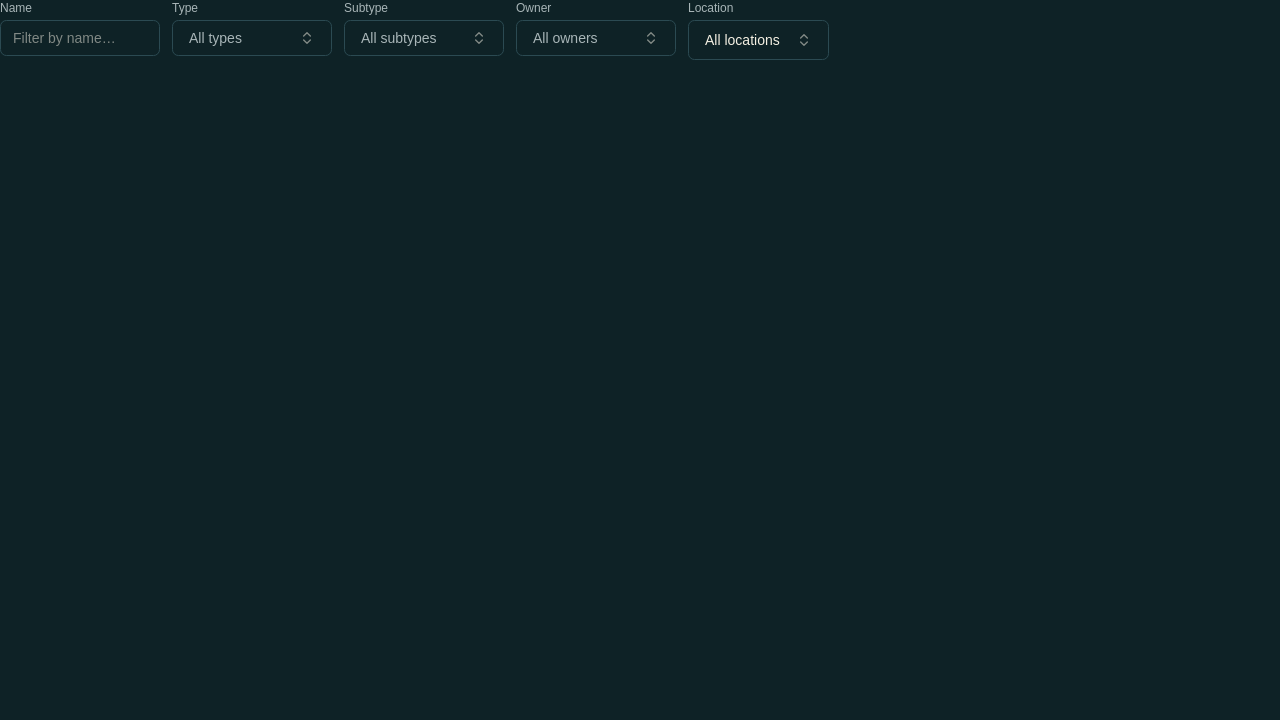
Scenario: InventoryFilters › renders subtype dropdown with options
The image size is (1280, 720).
Click the dropdown labelled "All subtypes".
click(424, 38)  # box [344,20,504,56]
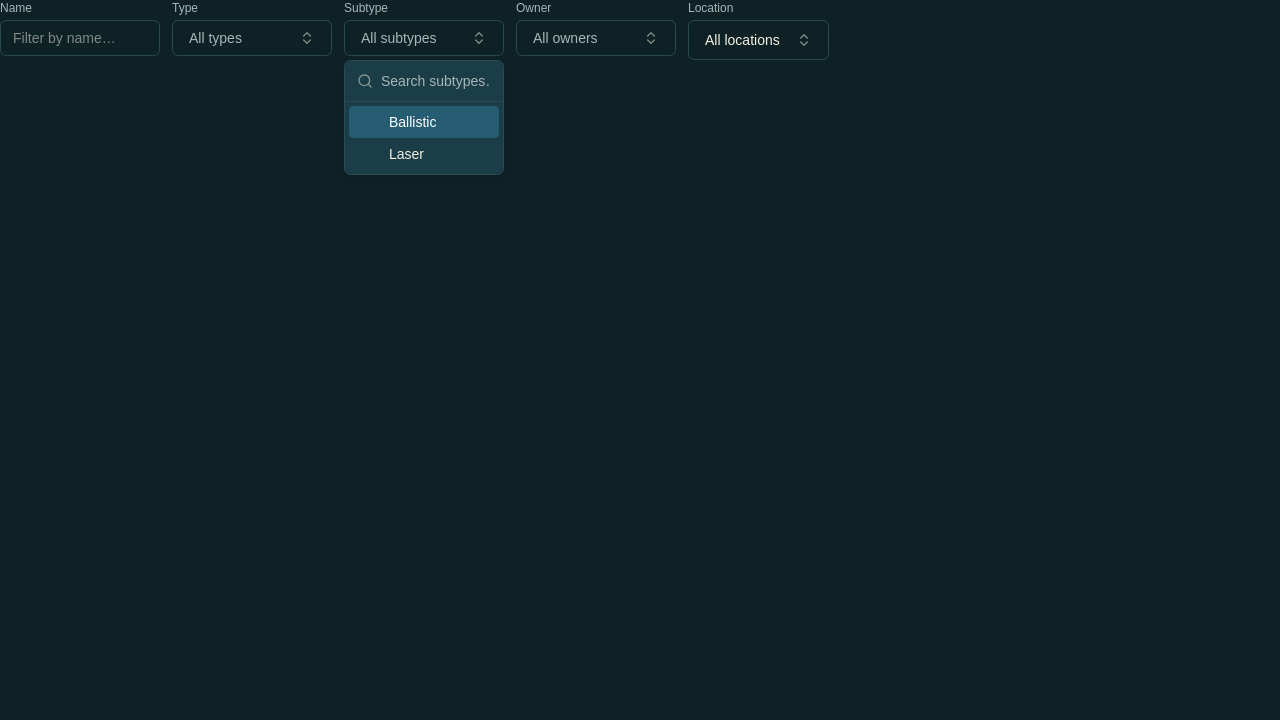
Result: the option "Ballistic" is shown at [349,106,499,138]
Result: the option "Laser" is shown at [389,146,424,162]
